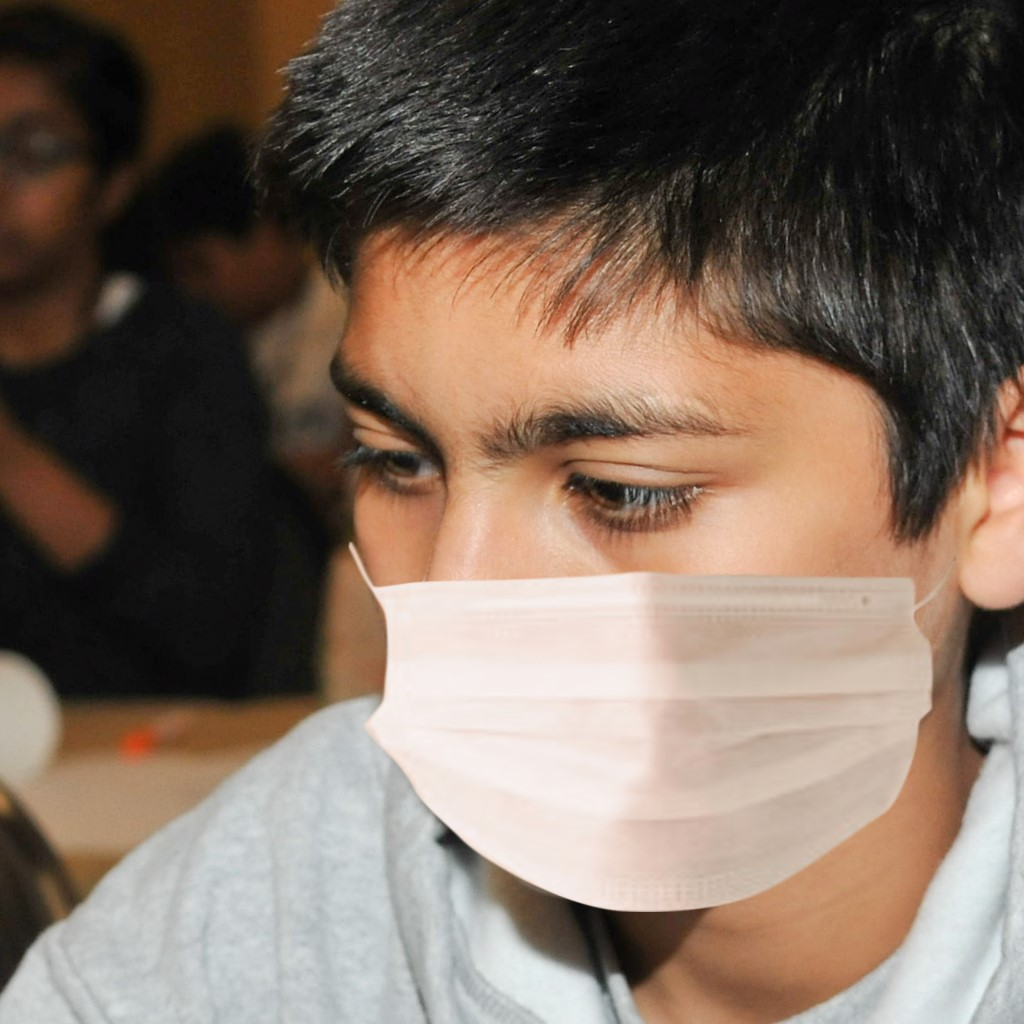con_mascara: (312, 156, 1019, 931)
